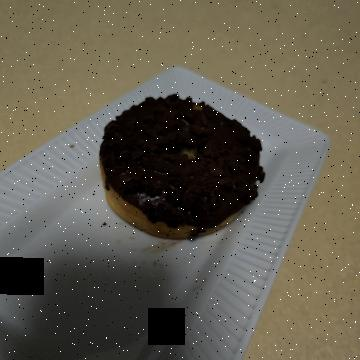doughnut: (83, 84, 264, 274)
